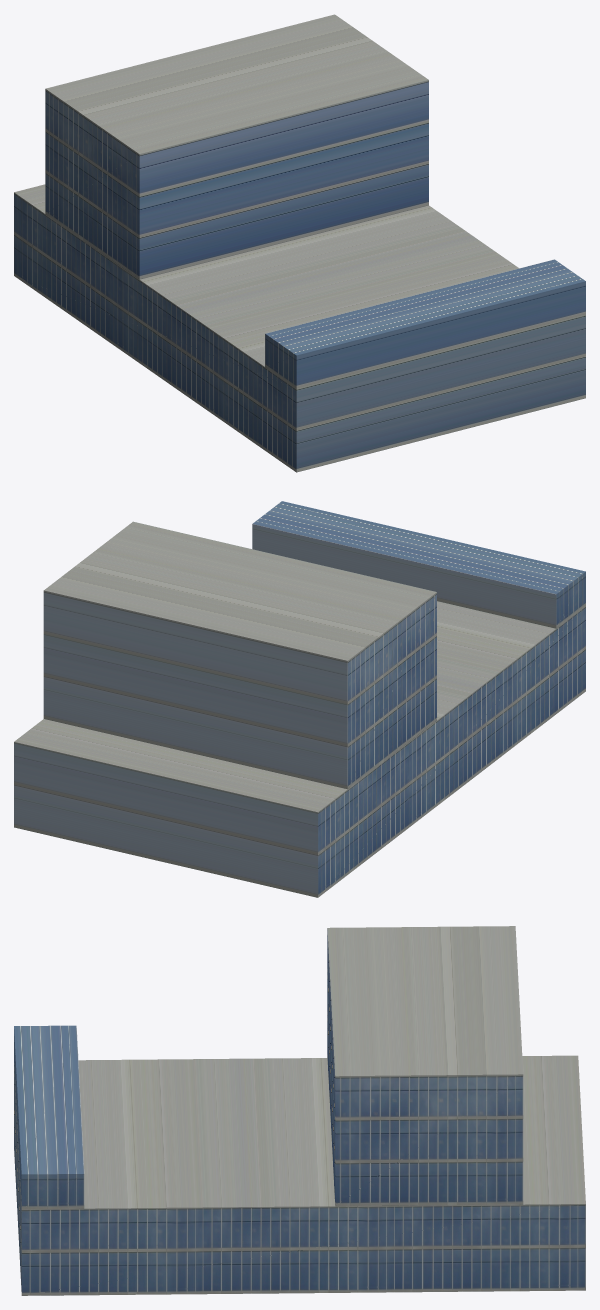
File: huitang.fbx
The picture shows the model from 3 angles, top to bottom: view 1: azimuth 30°, elevation 25°; view 2: azimuth 150°, elevation 25°; view 3: azimuth 270°, elevation 25°; orthographic projection. The views are drawn at different scales.
Visible parts, largest first — view 1: CityEngineMaterial_m; view 2: CityEngineMaterial_m; view 3: CityEngineMaterial_m.
Part boxes in pixels (box(x1,y1,x2,y2)): CityEngineMaterial_m: box(14, 14, 585, 472); CityEngineMaterial_m: box(14, 501, 585, 897); CityEngineMaterial_m: box(14, 926, 585, 1295).
Bounding box in the file's own units: 37.99 × 25 × 59.79.
